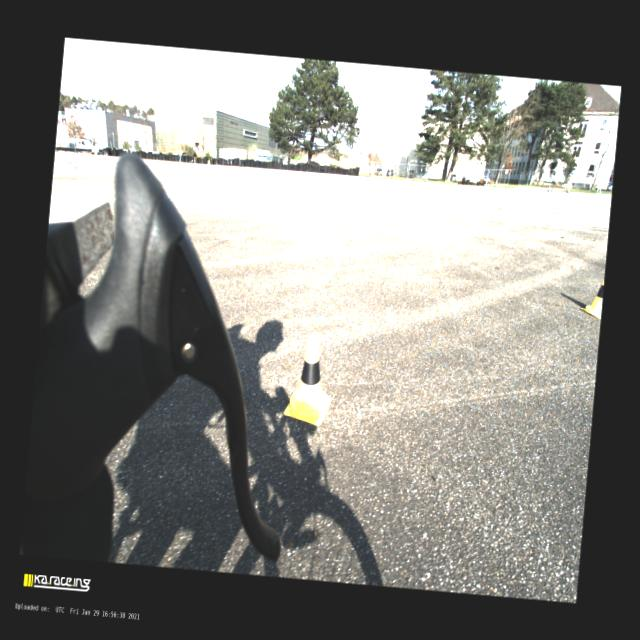yellow_cone: (282, 332, 336, 427), (579, 278, 604, 319)
